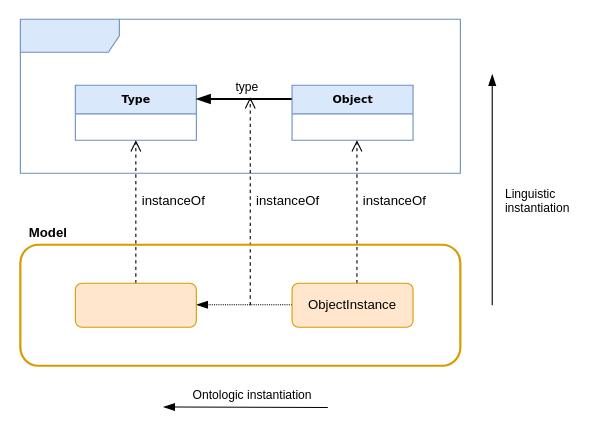
The diagram is 589 pixels wide and 438 high, and some of its shapes have lost their labels. Here are the shapes that lost their labels. From the top down, the box of each, then its label:
(19, 18, 460, 173): Metamodel
(74, 282, 196, 327): TypeInstance
